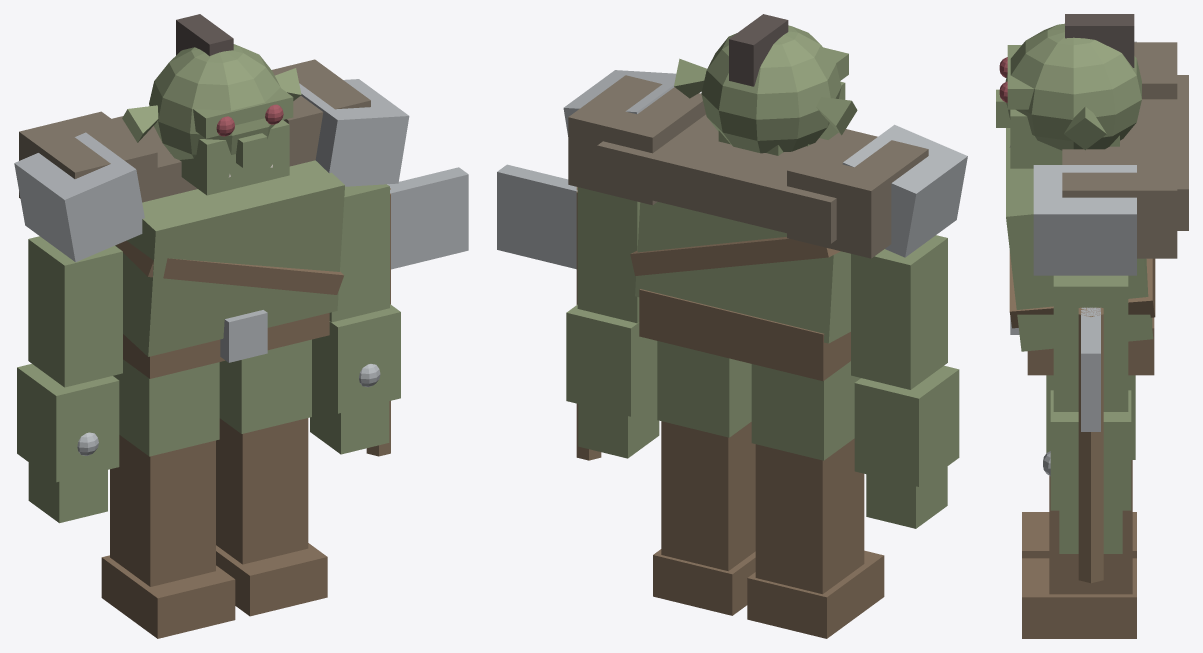
The model's file is orc.fbx.
3 renders of one model, left to right at view 1: azimuth 30°, elevation 25°; view 2: azimuth 150°, elevation 25°; view 3: azimuth 270°, elevation 25°, orthographic. The views are drawn at different scales.
Parts seen in each view (by area): view 1: orc; view 2: orc; view 3: orc.
Part boxes in pixels (x1,y1,x2,y2): orc: (14,14,468,638); orc: (497,14,967,638); orc: (996,14,1188,638).
Bounding box in the file's own units: 176 × 221 × 67.
